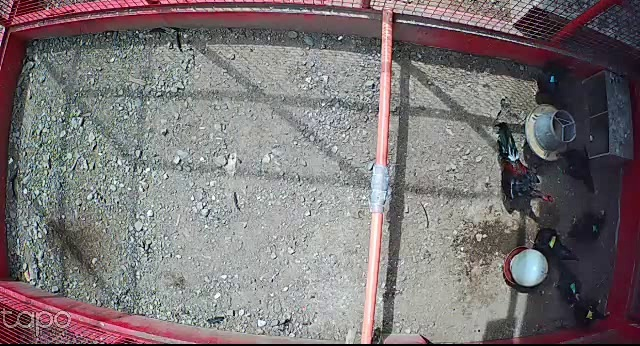Chicken: (528, 60, 576, 113), (552, 148, 596, 197), (527, 224, 580, 261), (551, 259, 587, 308), (564, 208, 607, 245), (568, 300, 614, 331)
Drinker: (503, 246, 552, 290)
Feeder: (521, 102, 580, 164)
Rooster: (495, 125, 556, 204)
Saddle_Color_Blue: (549, 75, 555, 83)
Saddle_Color_Yellow: (586, 310, 595, 319)
Saddle_Color_YellowGreen: (548, 236, 558, 249)
